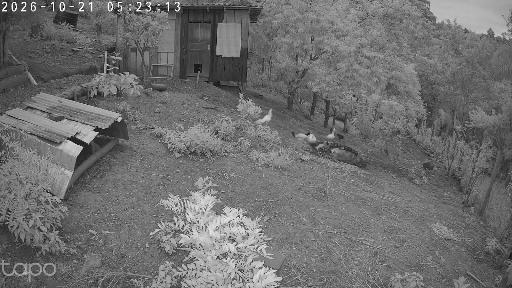galinha: (293, 132, 310, 145), (337, 133, 345, 142)
galo: (256, 108, 272, 127)
pato: (326, 127, 336, 143), (309, 133, 317, 145)
